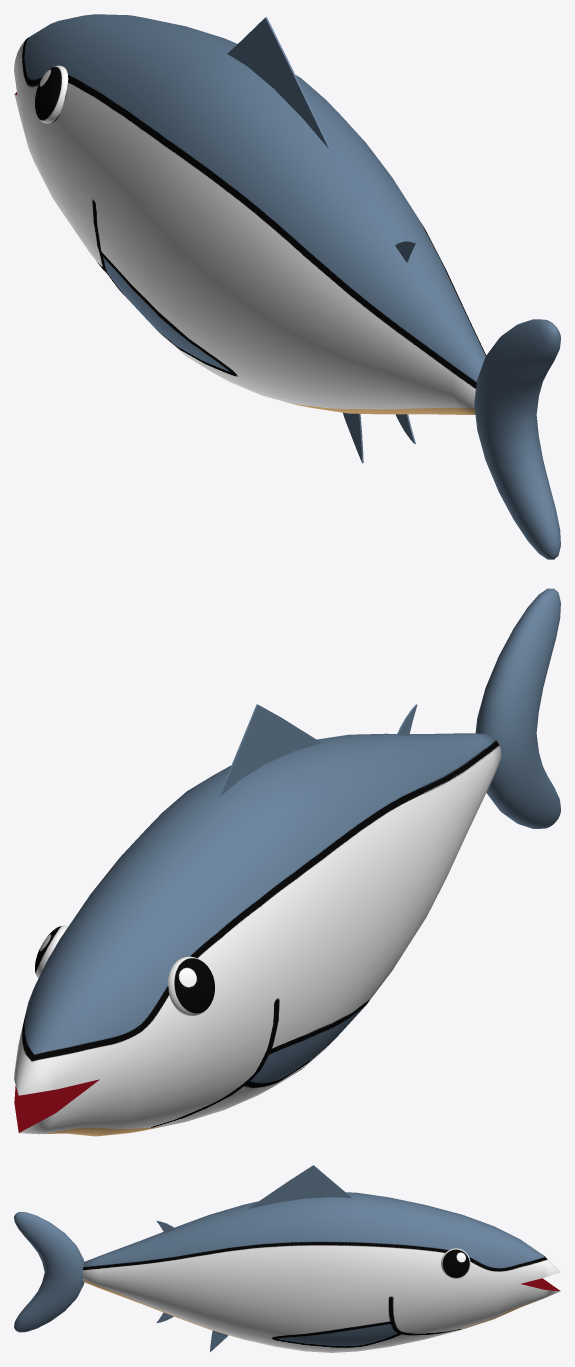
Rendered from sake.fbx.
3 renders of one model, top to bottom at view 1: azimuth 30°, elevation 25°; view 2: azimuth 150°, elevation 25°; view 3: azimuth 270°, elevation 25°, orthographic. The views are drawn at different scales.
Parts seen in each view (by area): view 1: Sphere, Sphere.001, Plane, Sphere.002; view 2: Sphere, Sphere.001, Plane, Sphere.002; view 3: Sphere, Sphere.001, Plane, Sphere.002.
Part boxes in pixels (x1=…): Sphere: x1=14, y1=14, x2=486, y2=414; Sphere.001: x1=474, y1=319, x2=560, y2=559; Plane: x1=227, y1=17, x2=330, y2=149; Sphere.002: x1=35, y1=65, x2=68, y2=123; Sphere: x1=14, y1=733, x2=501, y2=1136; Sphere.001: x1=475, y1=588, x2=560, y2=828; Plane: x1=218, y1=704, x2=321, y2=796; Sphere.002: x1=35, y1=925, x2=214, y2=1016; Sphere: x1=82, y1=1192, x2=560, y2=1352; Sphere.001: x1=14, y1=1212, x2=84, y2=1332; Plane: x1=248, y1=1165, x2=352, y2=1208; Sphere.002: x1=441, y1=1248, x2=470, y2=1278.
Bounding box in the file's own units: 123 × 223 × 588.
1 material, 1 textured.
